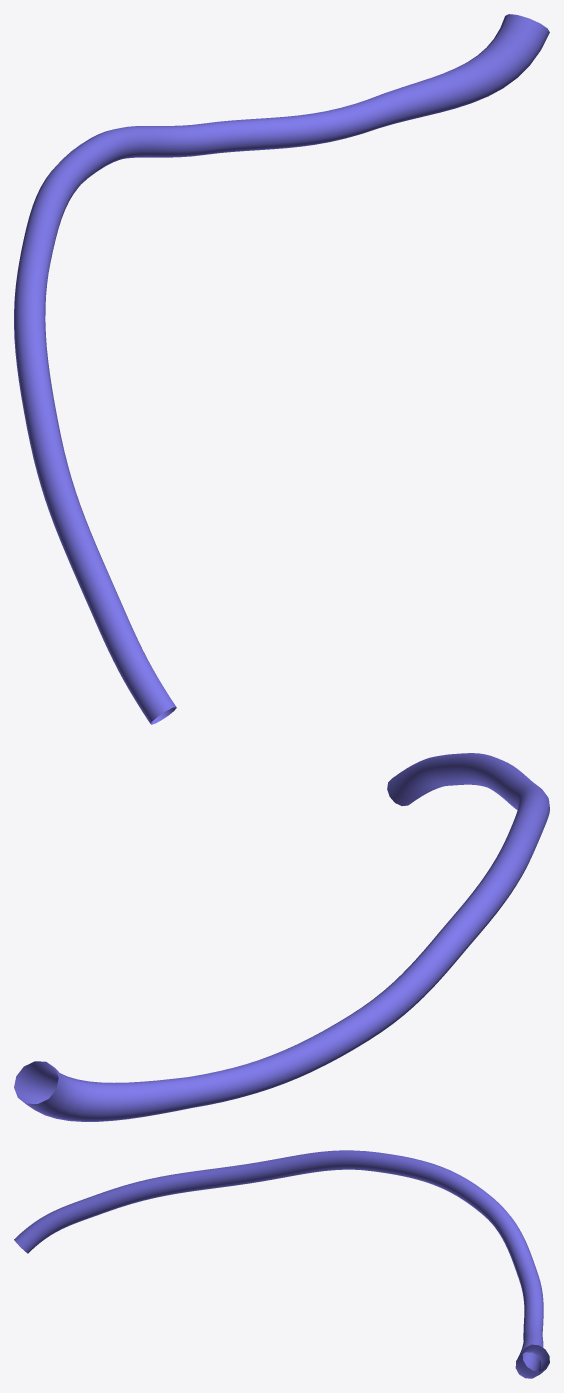
The model's file is Transverse_sinus.r_BezierCurve.473.glb.
3 views of the same model, one above another, from view 1: azimuth 30°, elevation 25°; view 2: azimuth 210°, elevation 25°; view 3: azimuth 270°, elevation 25° (orthographic). The views are drawn at different scales.
Visible parts, largest first — view 1: Transverse_sinus.r_BezierCurve.473; view 2: Transverse_sinus.r_BezierCurve.473; view 3: Transverse_sinus.r_BezierCurve.473.
Part boxes in pixels (x1,y1,x2,y2): Transverse_sinus.r_BezierCurve.473: (14, 14, 549, 724); Transverse_sinus.r_BezierCurve.473: (14, 753, 549, 1121); Transverse_sinus.r_BezierCurve.473: (14, 1150, 549, 1378).
Size of the model in its own units: 0.059 by 0.0172 by 0.0539.
